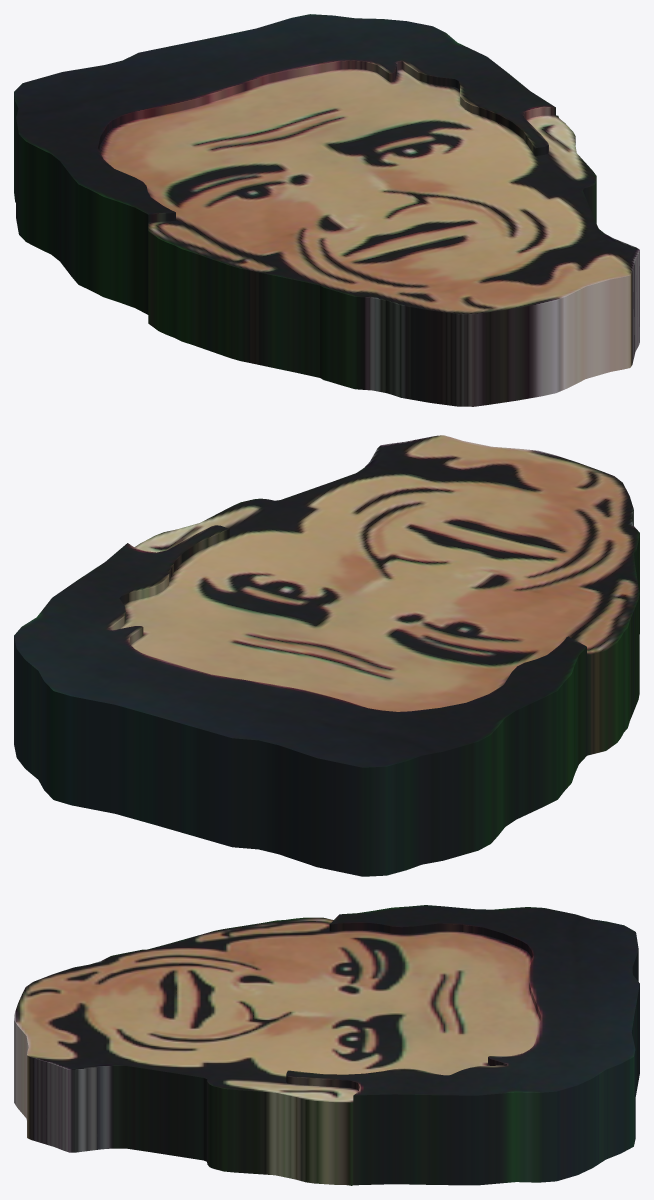
The model's file is Mural setuan 2-4.dae.
3 renders of one model, top to bottom at view 1: azimuth 30°, elevation 25°; view 2: azimuth 150°, elevation 25°; view 3: azimuth 270°, elevation 25°, orthographic. The views are drawn at different scales.
Visible parts, largest first — view 1: SketchUp; view 2: SketchUp; view 3: SketchUp.
Part boxes in pixels (left/top/right/bottom): SketchUp: left=14, top=14, right=639, bottom=406; SketchUp: left=14, top=435, right=639, bottom=876; SketchUp: left=14, top=905, right=639, bottom=1185.
Size of the model in its own units: 25.12 by 34.76 by 5.5.
Materials: 1 (1 with a texture image).
